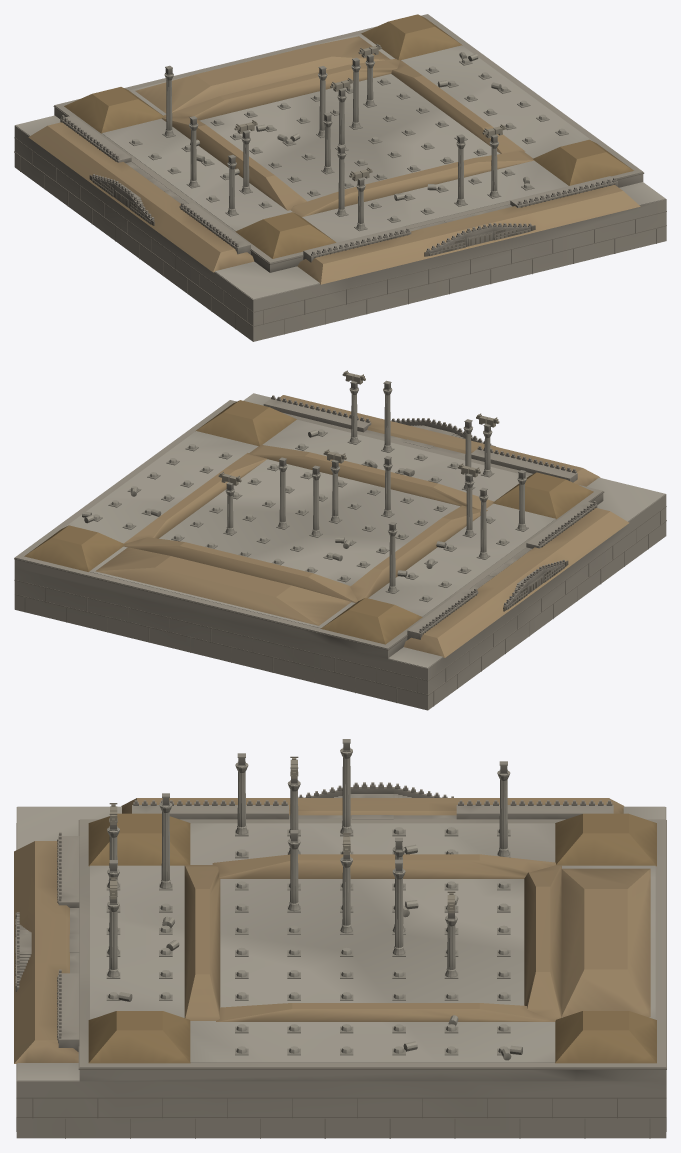
File: apadana-ruin.glb
3 views of the same model, one above another, from view 1: azimuth 30°, elevation 25°; view 2: azimuth 150°, elevation 25°; view 3: azimuth 270°, elevation 25° (orthographic). The views are drawn at different scales.
Parts seen in each view (by area): view 1: p0_platform, p1_columns; view 2: p0_platform, p1_columns; view 3: p0_platform, p1_columns.
Boxes of the visible parts, x1=… form: p0_platform: x1=14, y1=14, x2=666, y2=341; p1_columns: x1=28, y1=14, x2=640, y2=284; p0_platform: x1=14, y1=393, x2=666, y2=710; p1_columns: x1=24, y1=370, x2=629, y2=657; p0_platform: x1=15, y1=782, x2=666, y2=1138; p1_columns: x1=14, y1=739, x2=656, y2=1063.
Size of the model in its own units: 125 by 34.77 by 125.
